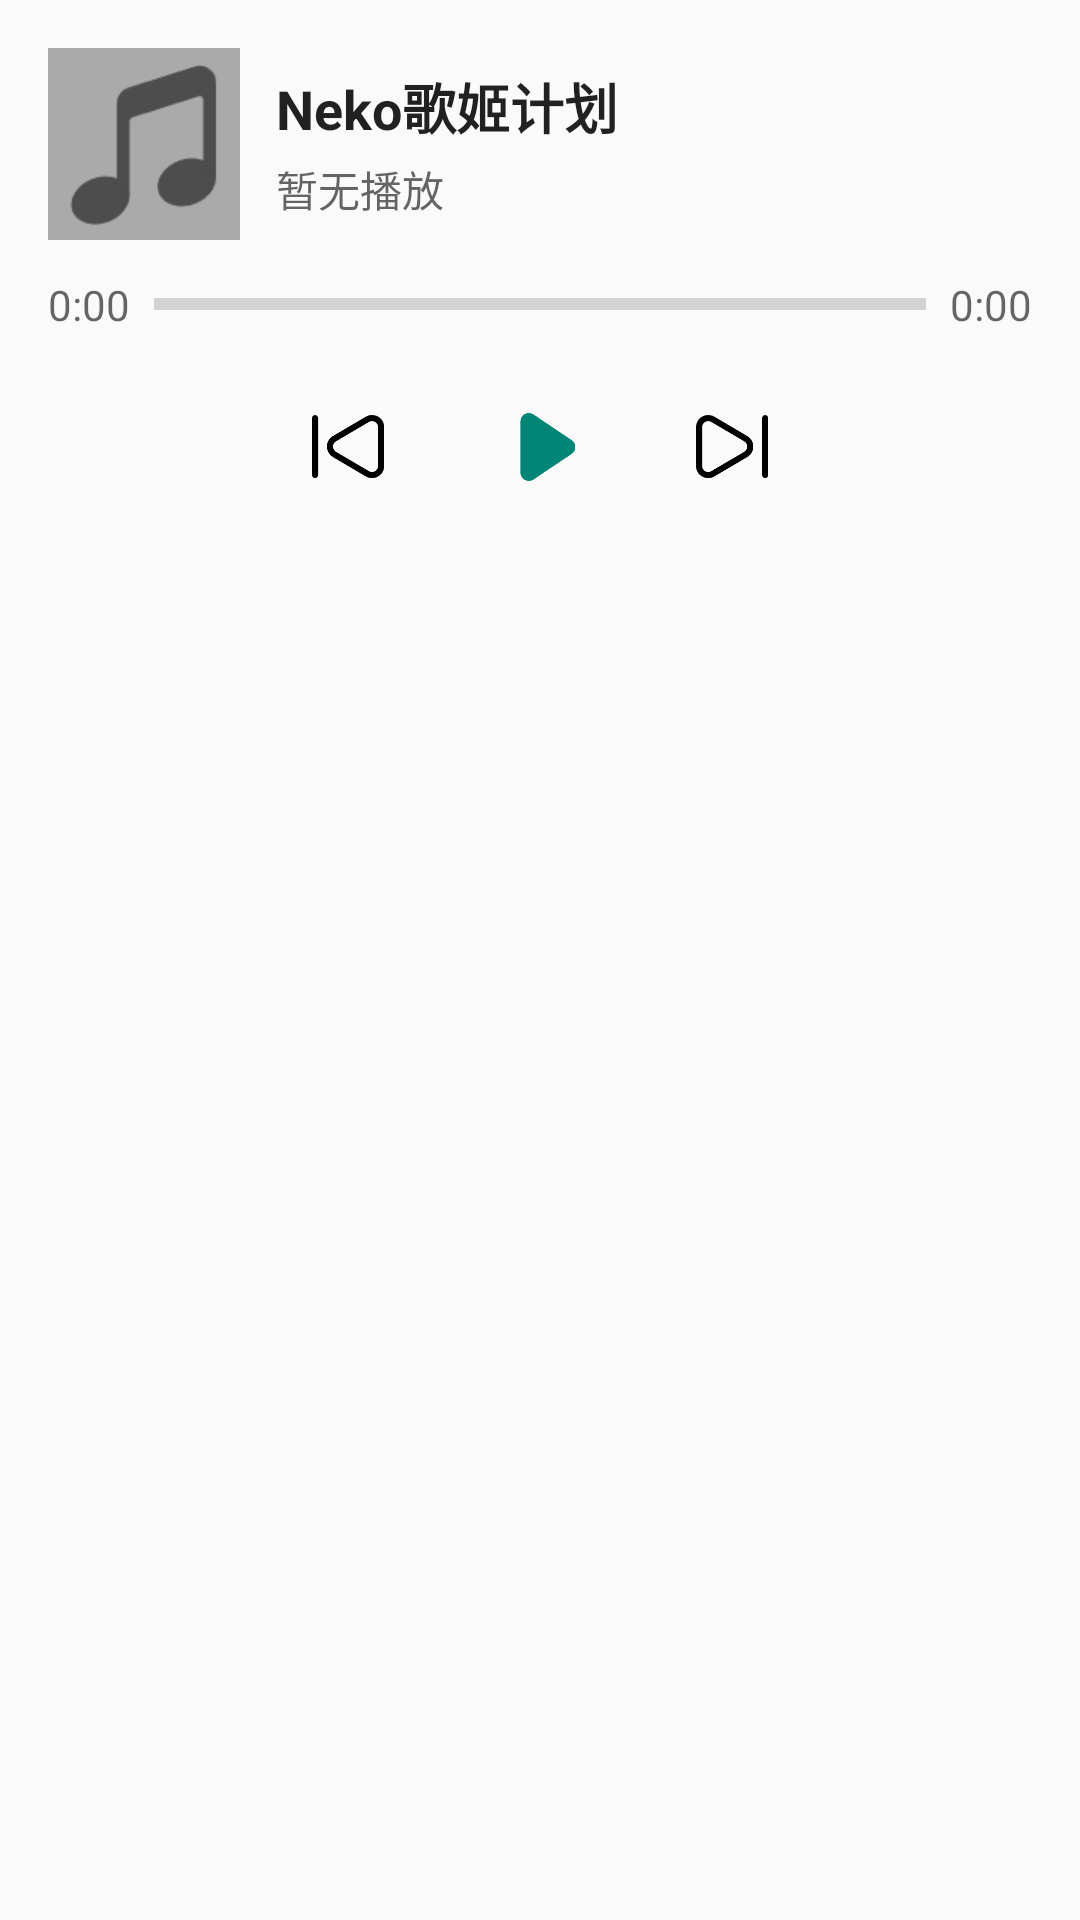

Icons on this 1080 x 1920 Android screen, each with the point to tap as point (x, y):
music: point (144, 144)
上一曲喵: point (348, 446)
下一曲喵: point (732, 446)
播放或暂停喵: point (547, 447)
